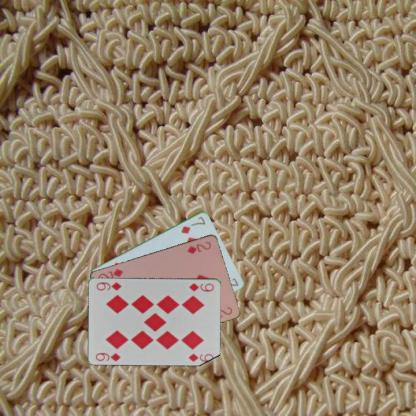2d: (184, 238, 213, 254)
7d: (178, 214, 207, 234)
9d: (186, 280, 216, 293), (94, 350, 122, 362)
